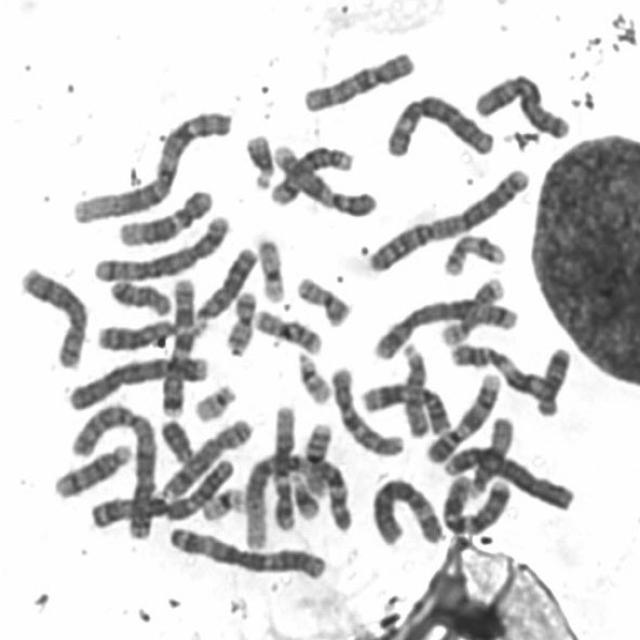A1: (65, 102, 235, 225), (238, 444, 358, 550)
A2: (362, 159, 536, 275), (64, 395, 162, 541)
A3: (82, 451, 237, 530), (162, 518, 330, 582)
B4: (438, 439, 578, 513), (62, 347, 212, 412)
B5: (89, 207, 234, 283), (368, 289, 521, 360)
C10: (297, 43, 420, 114), (325, 358, 408, 459)
C11: (446, 335, 561, 410), (356, 374, 454, 437)
C12: (112, 180, 218, 247), (268, 397, 299, 534)
C6: (380, 86, 499, 160), (367, 470, 449, 548)
C7: (156, 269, 198, 418), (436, 468, 514, 536)
C8: (155, 410, 257, 501), (14, 259, 91, 371)
C9: (268, 138, 380, 218), (420, 365, 502, 466)
D13: (188, 239, 260, 328), (92, 310, 186, 352)
D14: (266, 138, 357, 206), (48, 437, 135, 500)
D15: (462, 409, 517, 499), (396, 334, 433, 439)
E16: (248, 301, 326, 356), (296, 416, 334, 497)
E17: (437, 270, 510, 348), (438, 226, 509, 278)
E18: (531, 340, 574, 417), (105, 272, 175, 318)
F19: (252, 229, 290, 305), (196, 481, 248, 522)
F20: (291, 268, 354, 328), (220, 283, 260, 357)
G21: (240, 124, 278, 190), (286, 468, 324, 522)
G22: (292, 344, 334, 406), (189, 377, 238, 424)
X: (468, 66, 573, 140)
Y: (156, 412, 198, 464)
